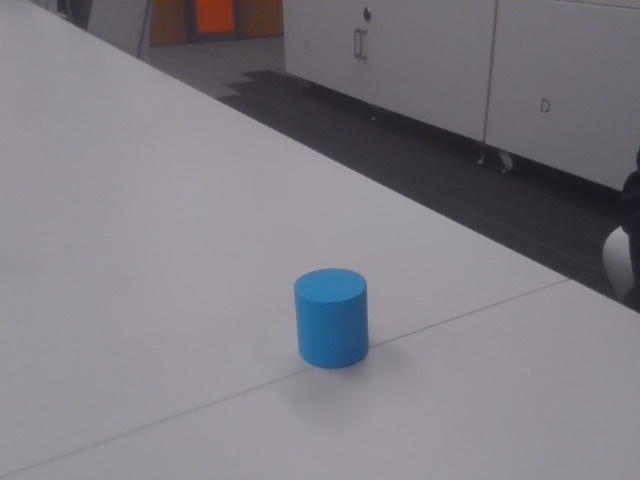cylinder: (294, 267, 369, 368)
